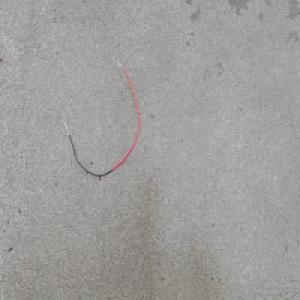Wire: (63, 59, 140, 179)
